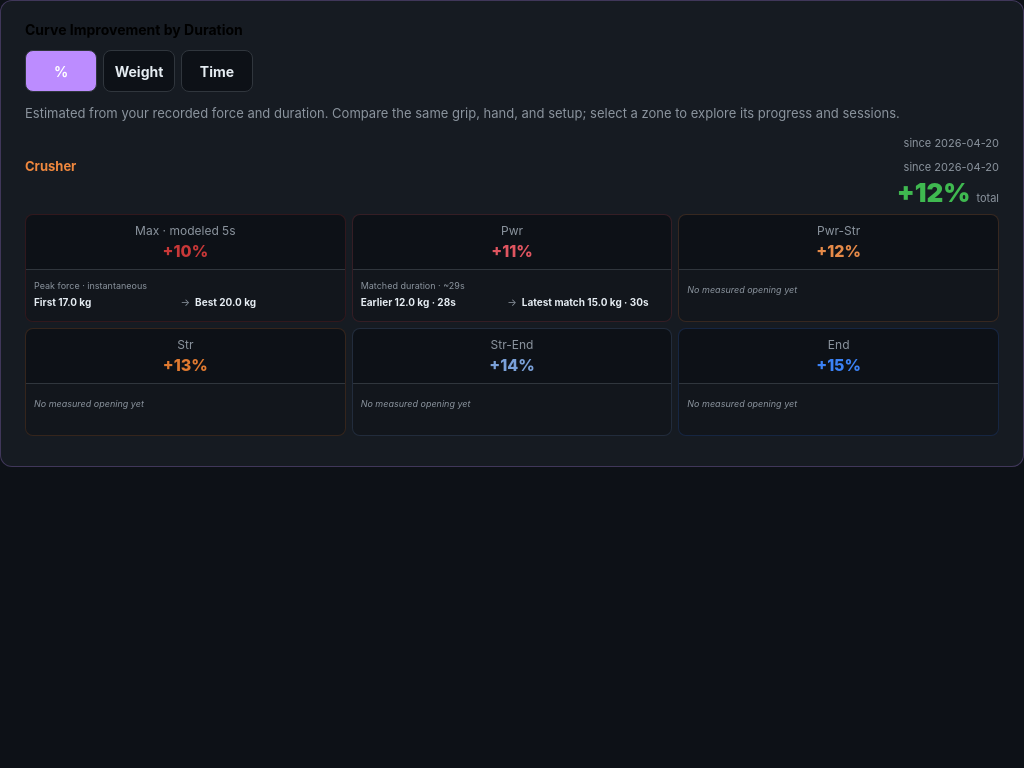
Test case: puts first and latest measured openings inside each modeled tile
Expected: the text "Matched duration · ~29s" is shown, [361,280,465,291]
Expected: the text "Earlier 12.0 kg · 28s" is shown, [361,296,456,308]
Click the button with aria-label "Power measured opening history" at (512, 294), box [353,268,671,320]
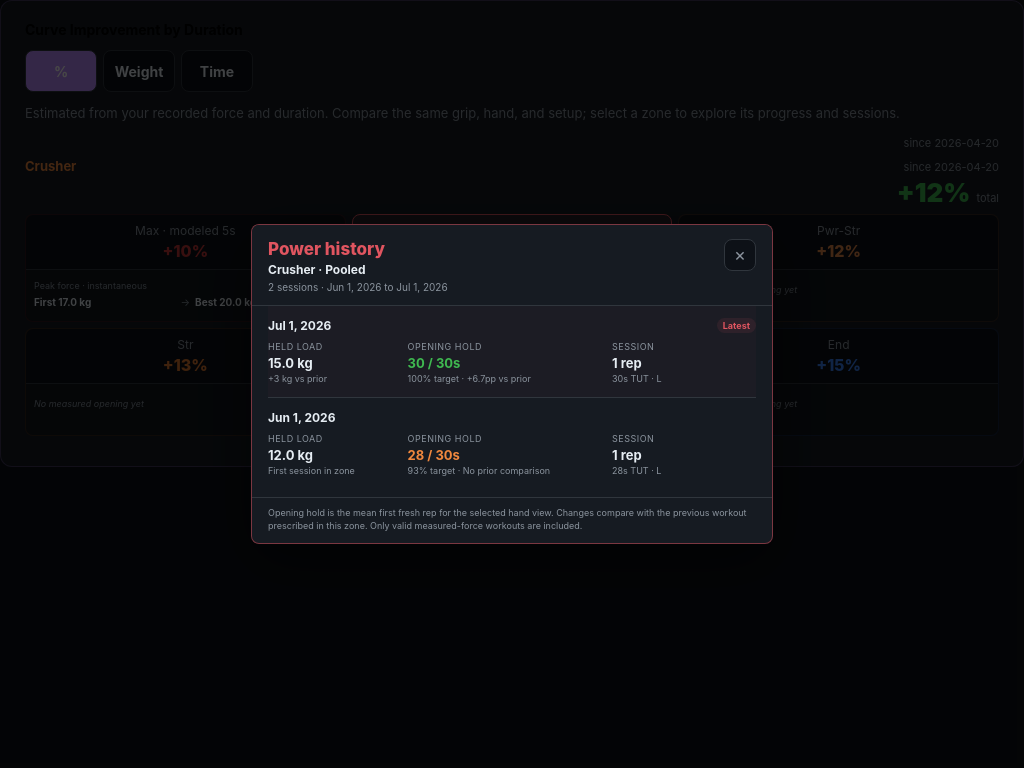
Expected: the dialog shows "2 sessions", [268,280,448,292]
Expected: the text "15.0 kg" is shown, [268,354,313,370]
